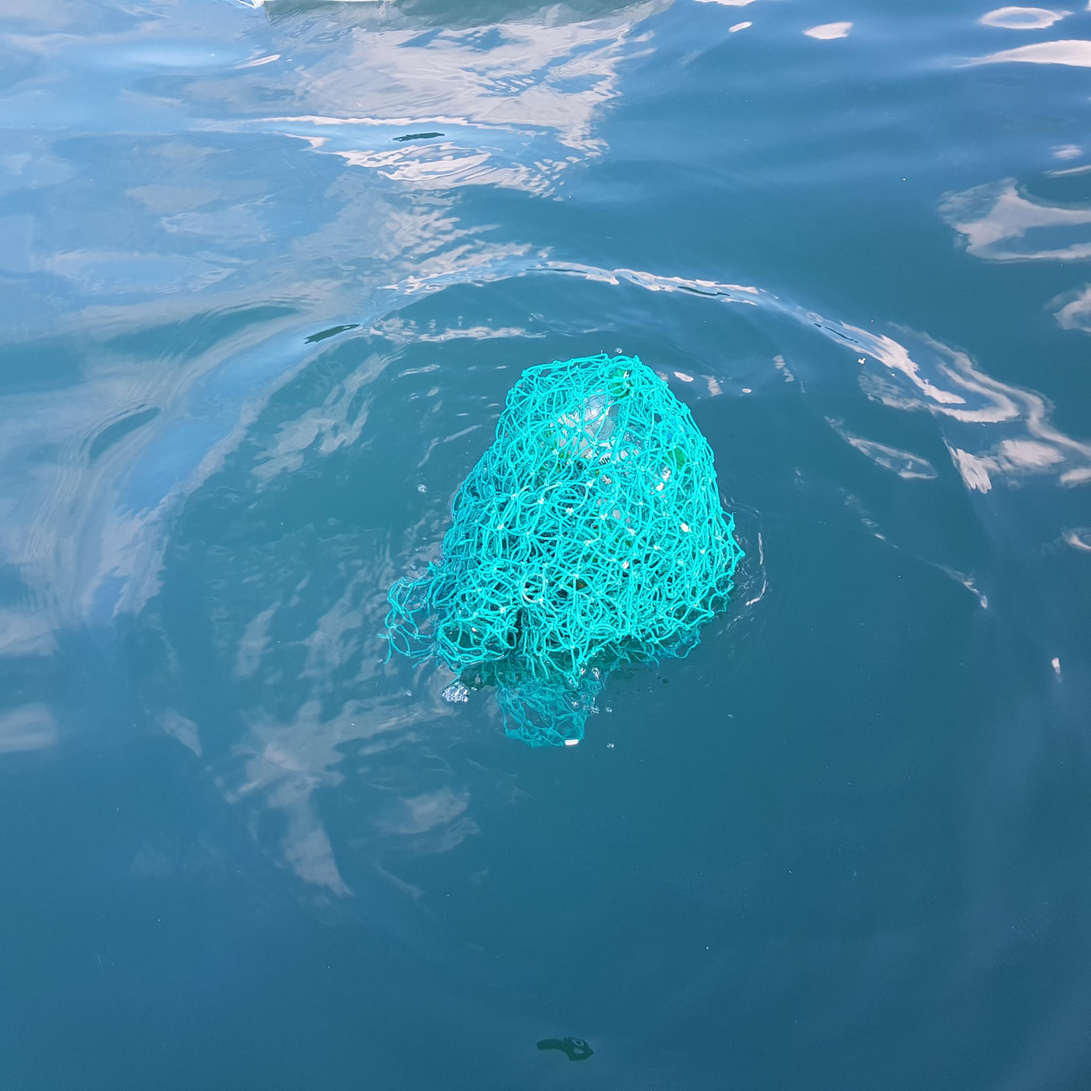sampah_terapung: (376, 352, 747, 748), (524, 365, 634, 486), (642, 443, 688, 499)
